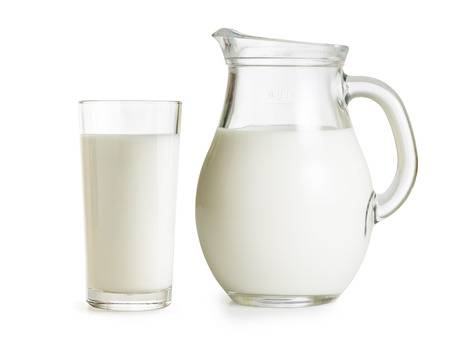glass of milk: (76, 96, 181, 316)
